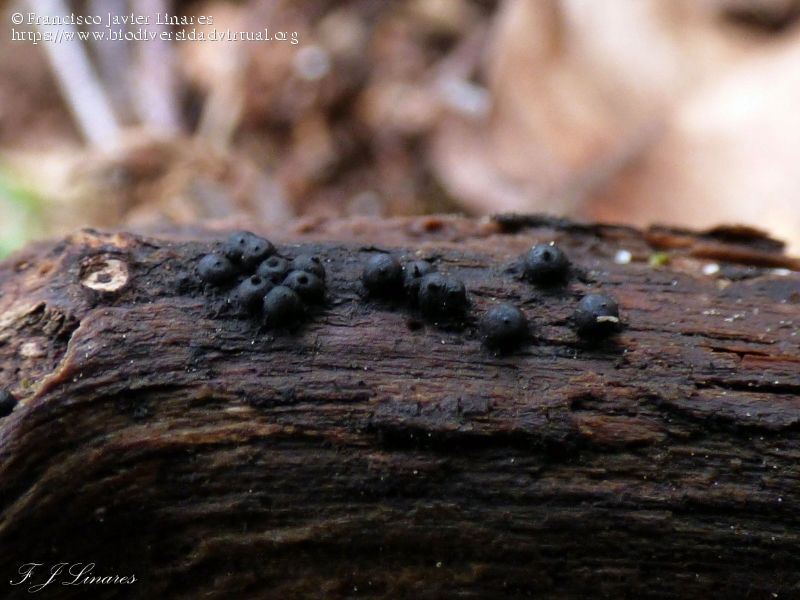pudricion radicular: (77, 185, 712, 452)
